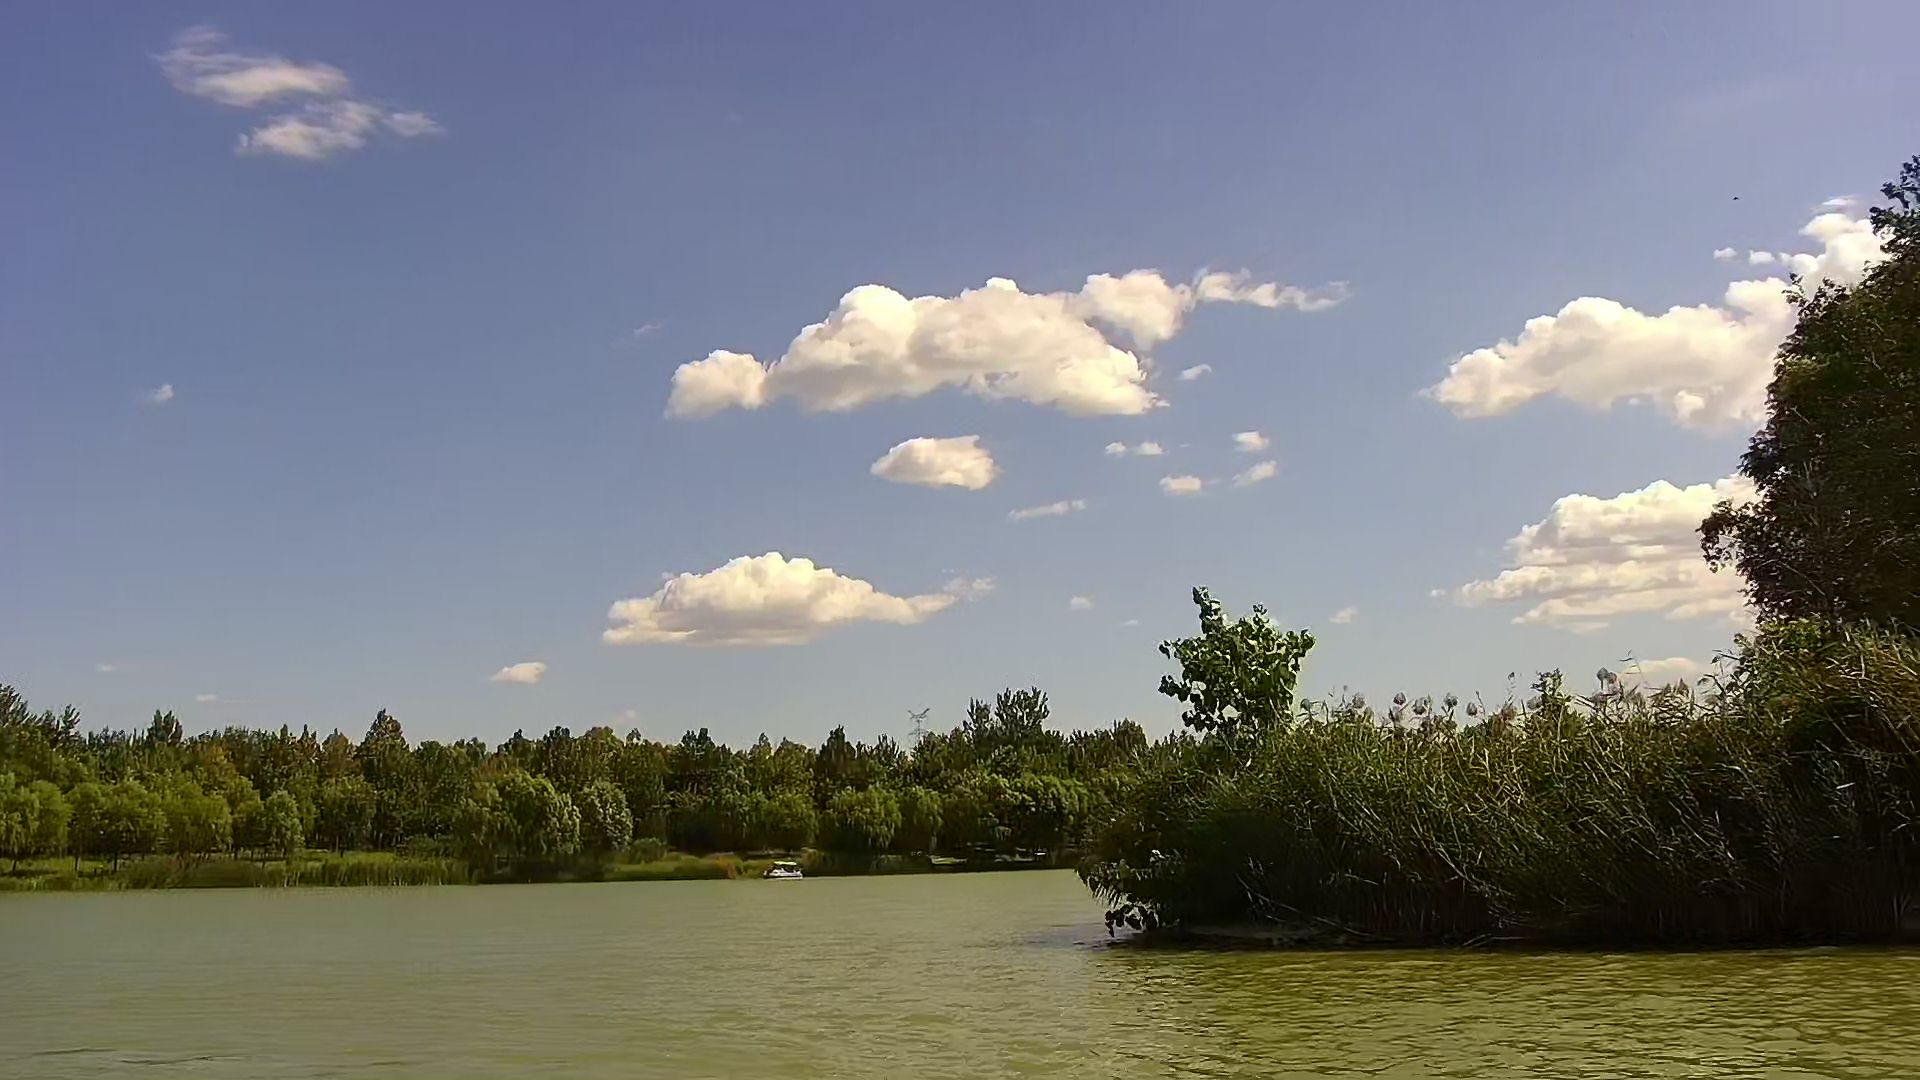boat: (766, 856, 807, 880)
